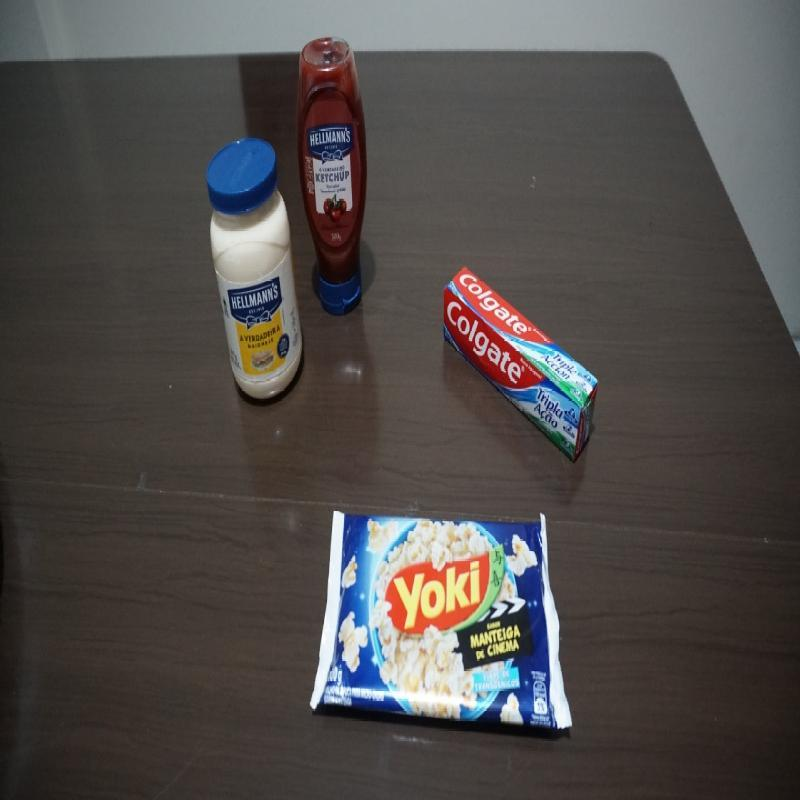Ketchup: (298, 39, 370, 314)
Mayonnaise: (206, 137, 303, 400)
Popcorn: (309, 510, 570, 728)
Toothpaste: (444, 265, 601, 467)
